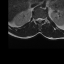CCS_normal: (38, 15, 40, 24)
LFS_normal: (42, 16, 44, 22)
LLS_normal: (40, 15, 42, 22)
RFS_normal: (34, 16, 36, 22)
RLS_normal: (36, 16, 38, 22)
